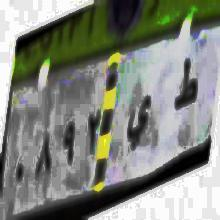0: (13, 138, 30, 206)
2: (85, 106, 102, 155)
8: (32, 127, 54, 190)
9: (62, 109, 81, 174)
Taa: (173, 46, 200, 126)
yaa: (125, 85, 154, 156)
